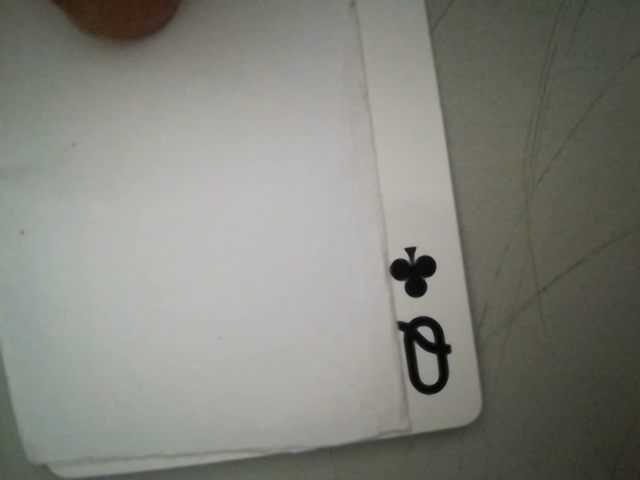mh q: (379, 235, 471, 409)
